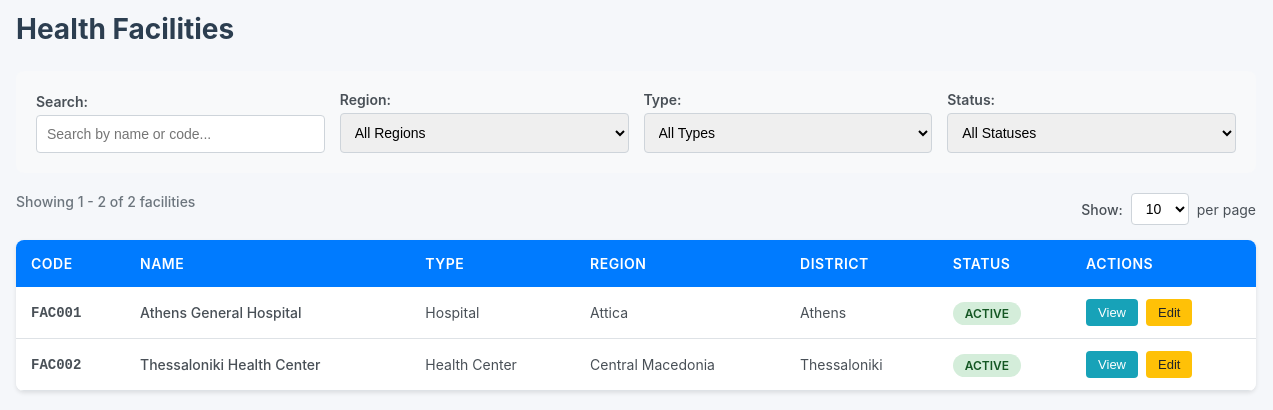
Test: FacilityList Component › shows clear filters button when filters are active
Type in search box to activate filter
Type "Athens" into the field with placeholder "Search by name or code...". click: [180, 134]
box: [36,115,325,153]
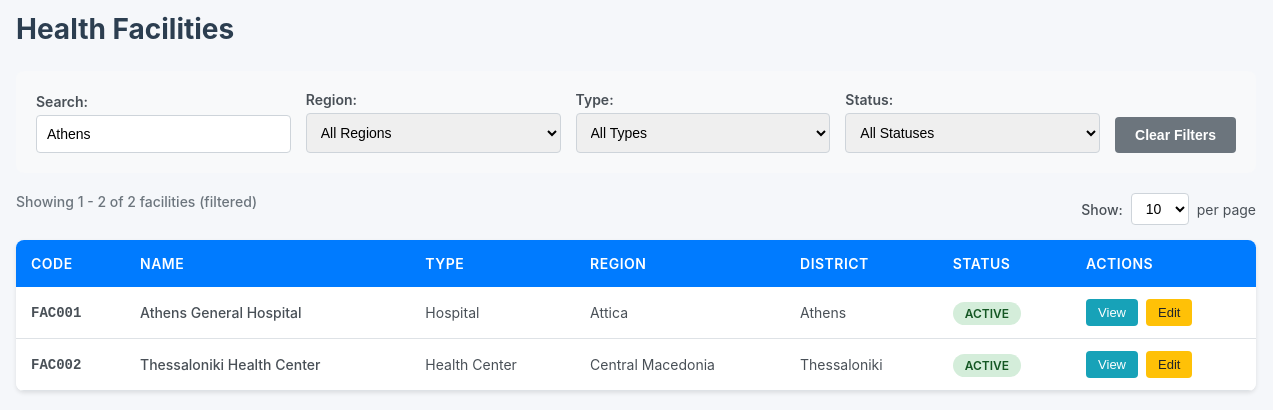
Now the button "Clear Filters" is shown, box [1115,117,1236,153]
